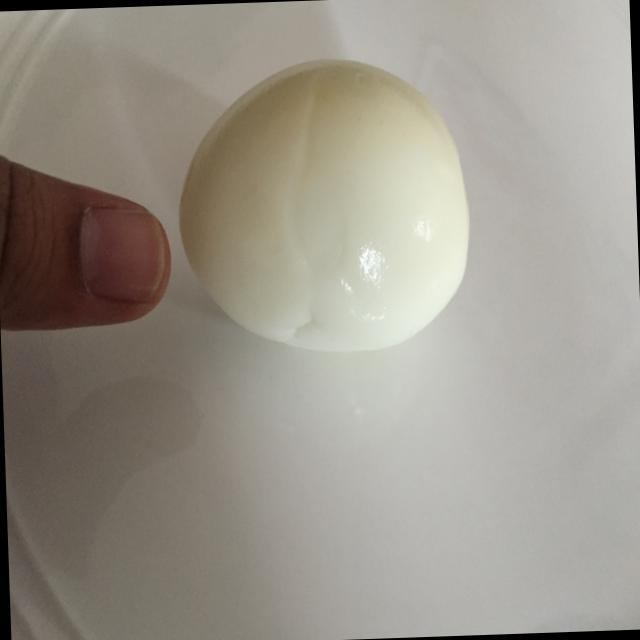Egg: (168, 49, 480, 360)
Finger: (0, 146, 182, 344)
